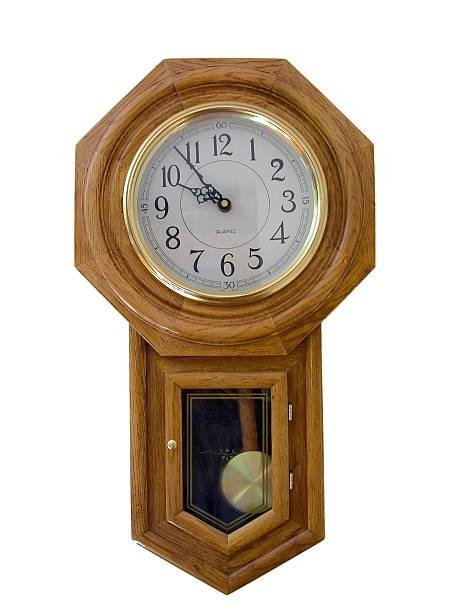clock: (126, 111, 332, 305)
